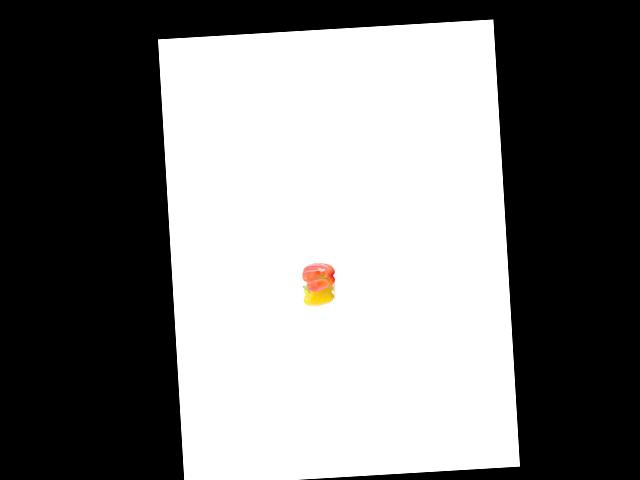bell_pepper: (303, 279, 336, 307)
